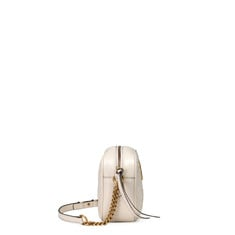Gucci: (86, 142, 149, 228)
